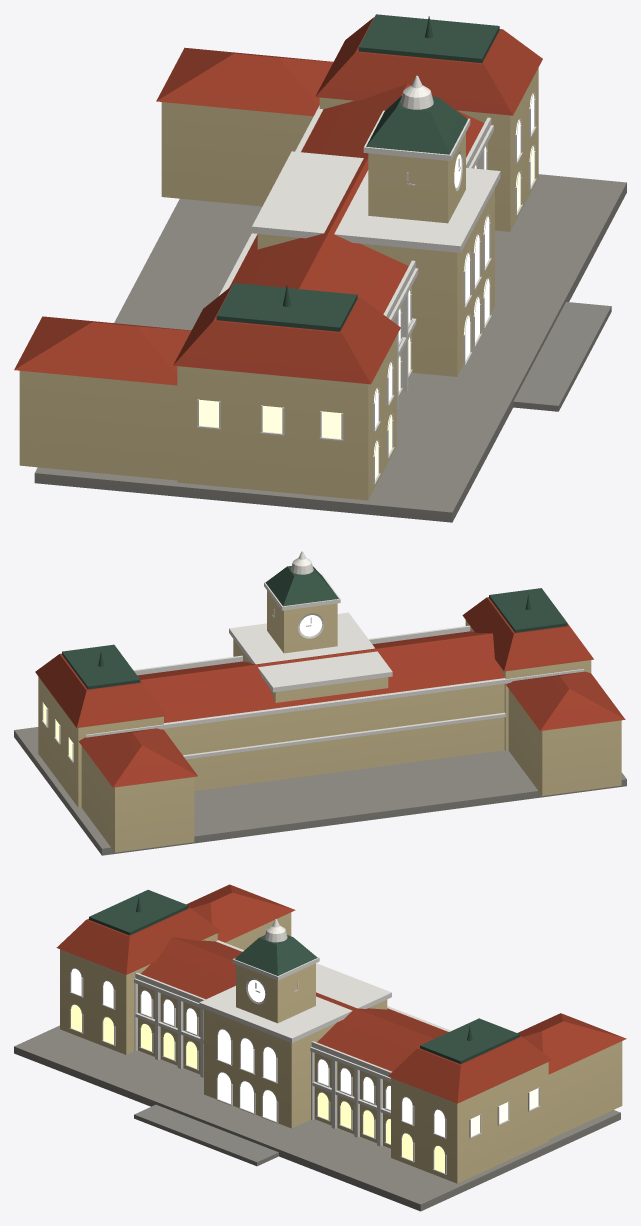
Rendered from ubnd_tphcm.glb.
The picture shows the model from 3 angles, top to bottom: view 1: azimuth 30°, elevation 25°; view 2: azimuth 150°, elevation 25°; view 3: azimuth 270°, elevation 25°; orthographic projection. The views are drawn at different scales.
Parts seen in each view (by area): view 1: ubnd_tphcm; view 2: ubnd_tphcm; view 3: ubnd_tphcm.
Part boxes in pixels (bbox=[...]): ubnd_tphcm: bbox=[14, 14, 626, 522]; ubnd_tphcm: bbox=[14, 551, 626, 855]; ubnd_tphcm: bbox=[14, 884, 626, 1211].
Size of the model in its own units: 93.24 by 32 by 95.4.
